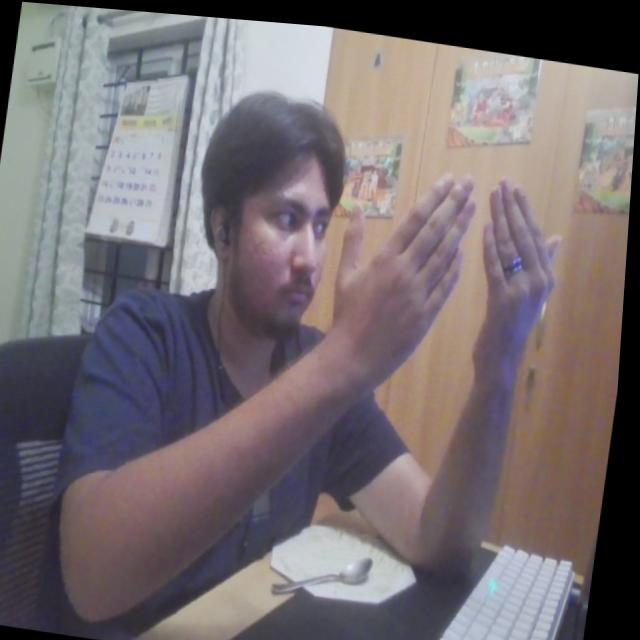thankyou: (320, 133, 576, 406)
